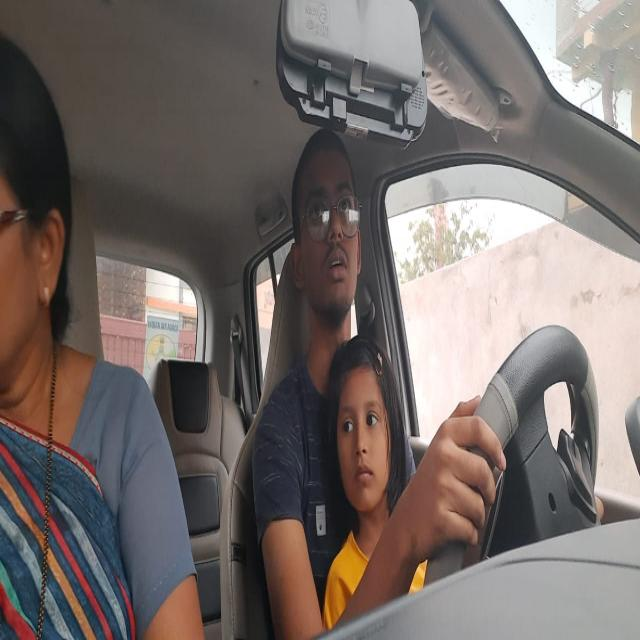child: (327, 334, 405, 514)
person: (0, 37, 70, 406), (292, 121, 368, 330)
